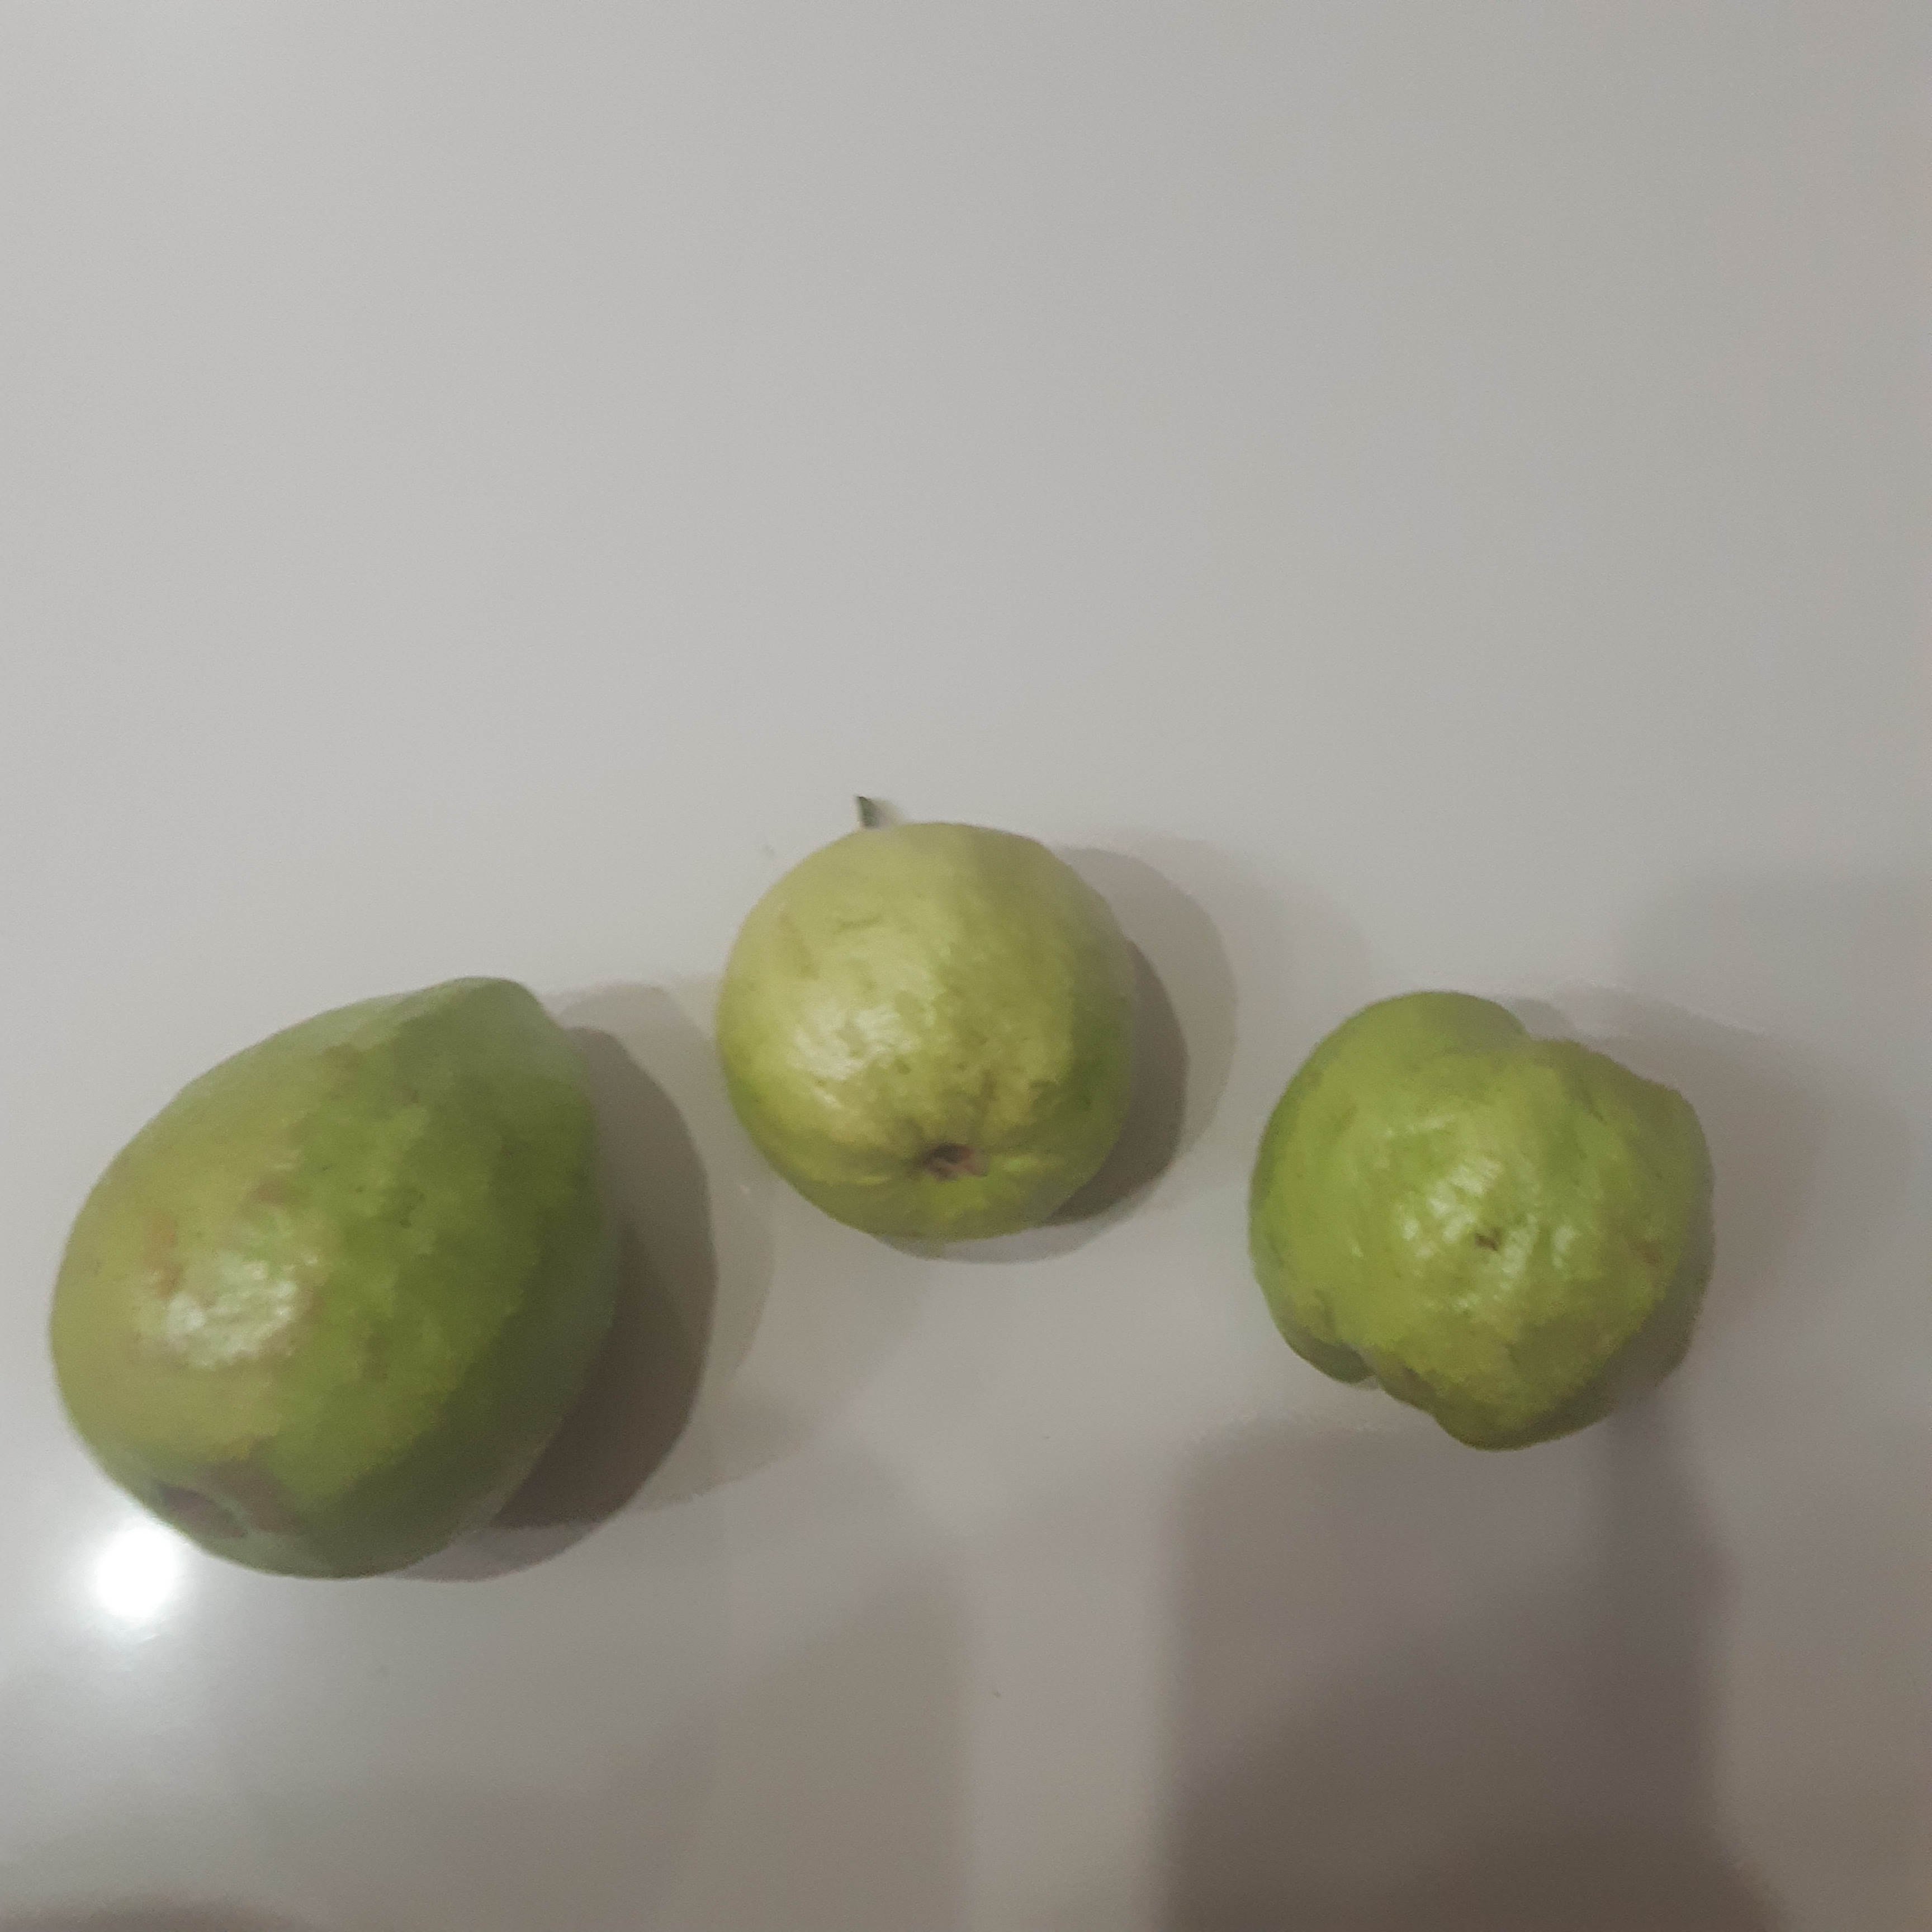Oi: (46, 977, 630, 1576), (1249, 993, 1714, 1451), (715, 823, 1150, 1242)
